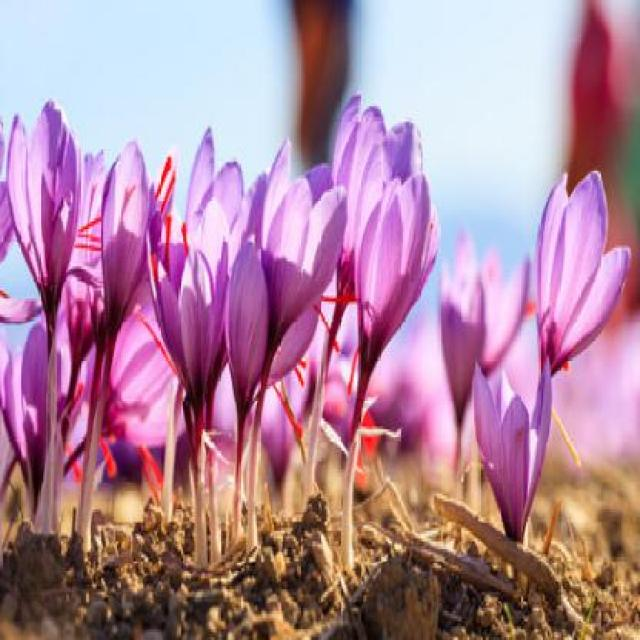Flower: (526, 162, 632, 367), (436, 205, 535, 423), (253, 129, 345, 362), (355, 140, 440, 382), (469, 349, 556, 554), (150, 208, 230, 414), (7, 95, 79, 323), (88, 130, 167, 336)
stigma: (80, 429, 190, 516), (244, 336, 316, 468), (143, 153, 189, 282), (308, 287, 366, 365), (75, 211, 106, 262)
